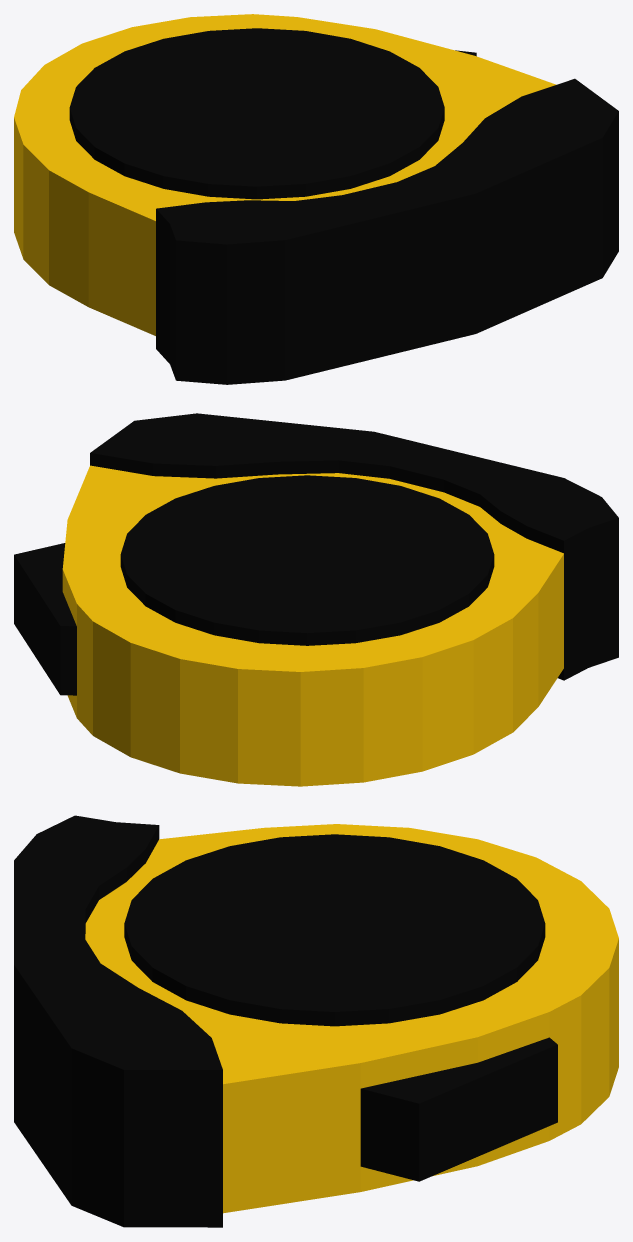
File: Roulette.fbx
The picture shows the model from 3 angles, top to bottom: view 1: azimuth 30°, elevation 25°; view 2: azimuth 150°, elevation 25°; view 3: azimuth 270°, elevation 25°; orthographic projection. The views are drawn at different scales.
Parts seen in each view (by area): view 1: Roulette; view 2: Roulette; view 3: Roulette.
Boxes of the visible parts, x1,y1,x2,y2 form: Roulette: (14,14,618,384); Roulette: (14,413,618,786); Roulette: (14,815,618,1227).
Bounding box in the file's own units: 29.48 × 8.33 × 28.96.
